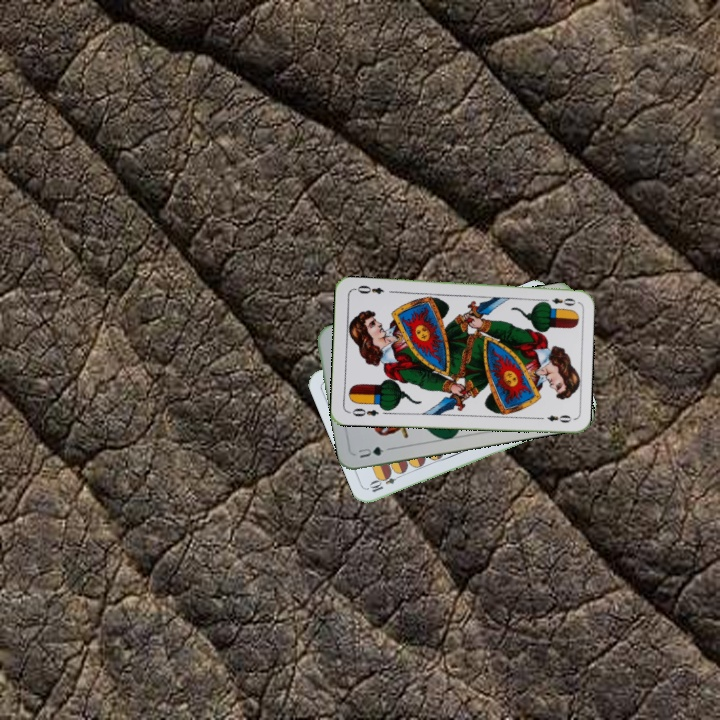E10: (366, 469, 405, 495)
EO: (538, 294, 578, 308), (348, 404, 381, 419)
GU: (354, 442, 386, 461)
